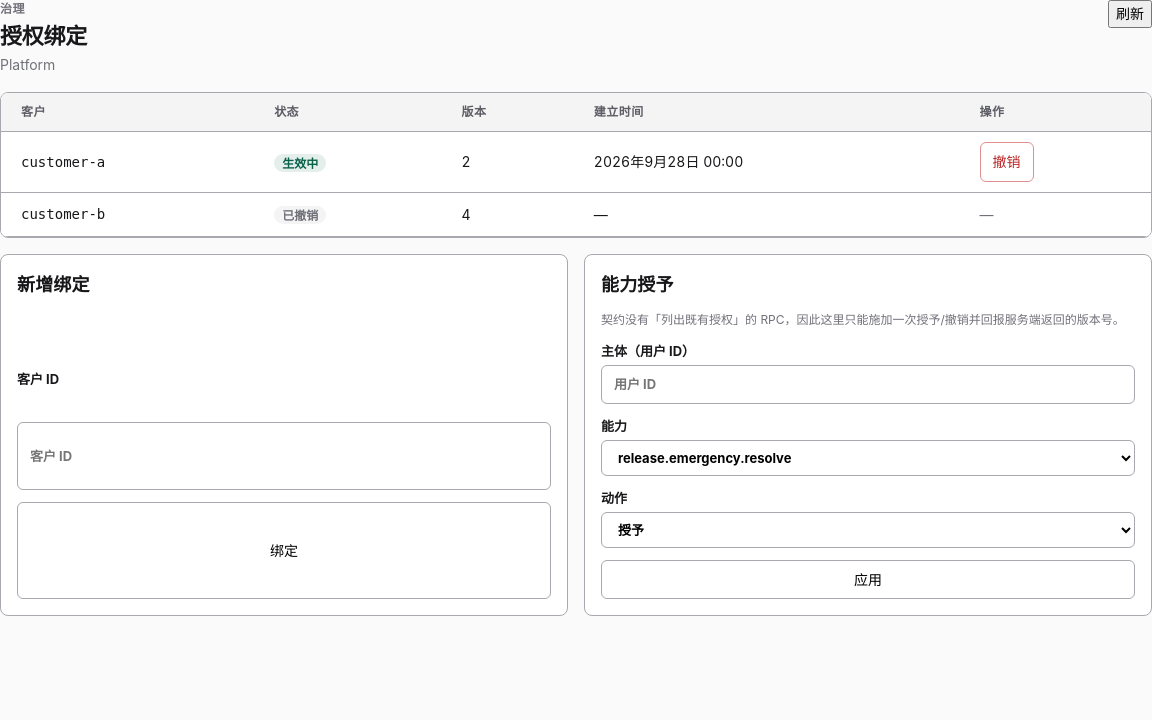
Test: BindingsPage › does not revoke on the row click — it arms the confirmation instead
Click the button "撤销" at [1006, 162], box 980,142 -> 1034,182
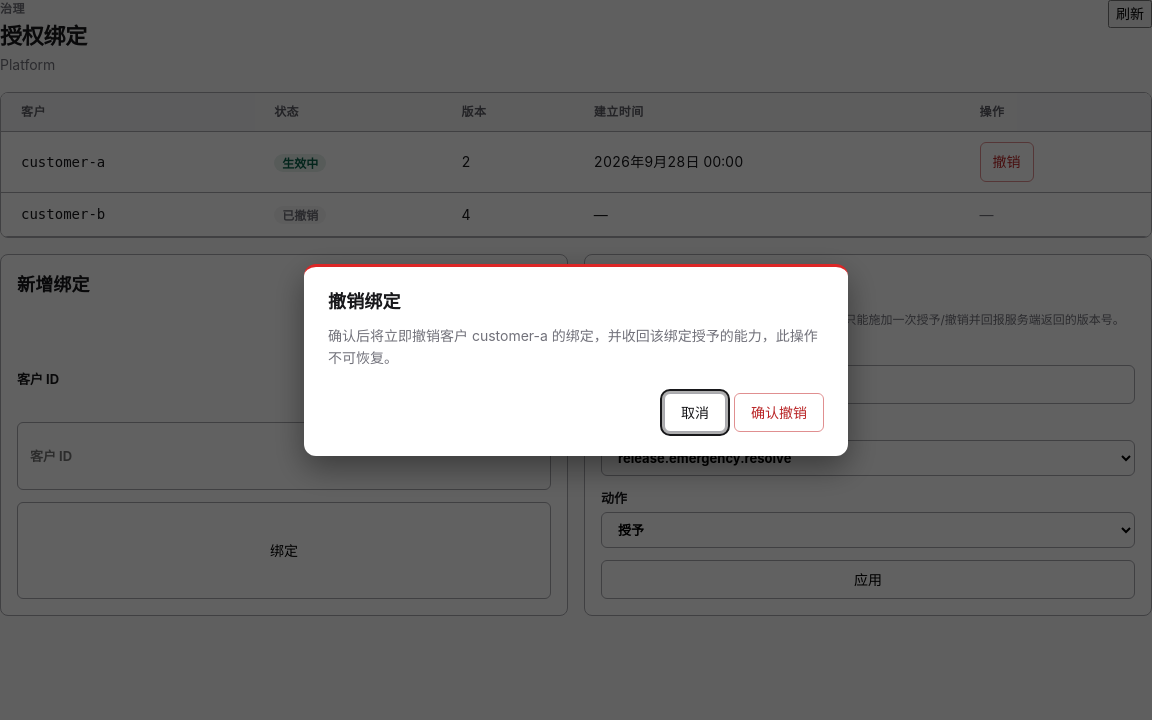
Expected: the heading "撤销绑定" is shown, 328,291 -> 401,312
